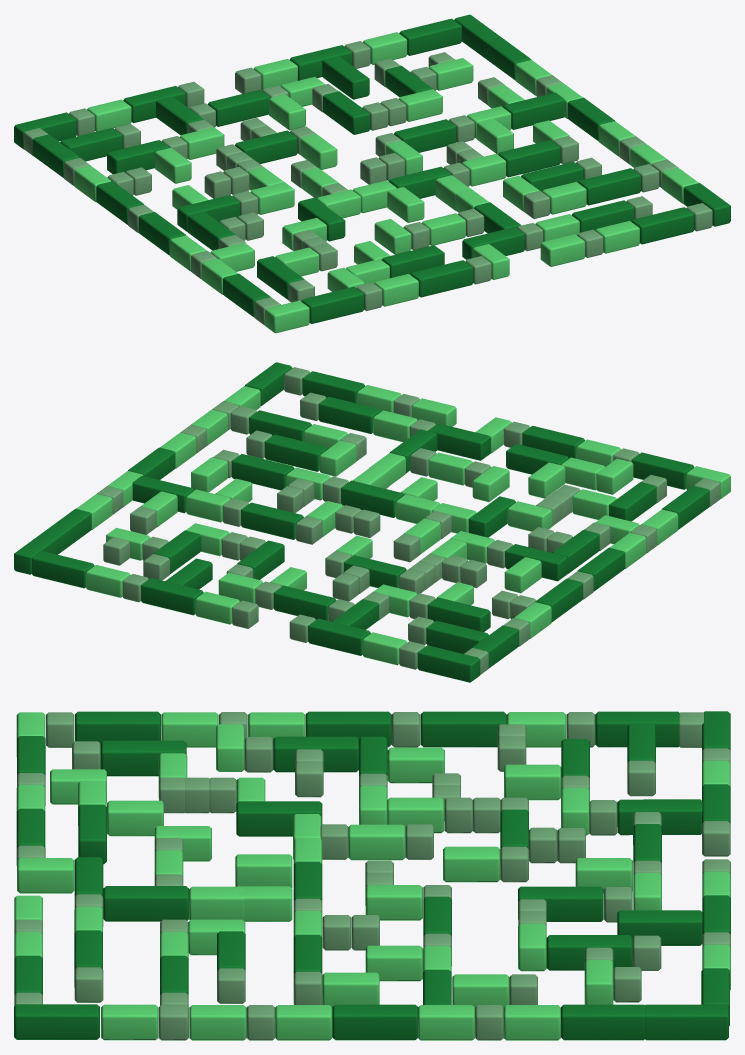
File: SM_Maze_05b.fbx
The picture shows the model from 3 angles, top to bottom: view 1: azimuth 30°, elevation 25°; view 2: azimuth 150°, elevation 25°; view 3: azimuth 270°, elevation 25°; orthographic projection. The views are drawn at different scales.
Visible parts, largest first — view 1: polySurface188, polySurface140, polySurface78; view 2: polySurface188, polySurface140, polySurface78; view 3: polySurface140, polySurface188, polySurface78.
Part boxes in pixels (bbox=[...]): polySurface188: bbox=[14, 14, 730, 323]; polySurface140: bbox=[74, 32, 698, 333]; polySurface78: bbox=[23, 41, 712, 325]; polySurface188: bbox=[14, 362, 709, 682]; polySurface140: bbox=[76, 385, 730, 665]; polySurface78: bbox=[97, 367, 720, 674]; polySurface140: bbox=[14, 712, 730, 1040]; polySurface188: bbox=[14, 711, 730, 1040]; polySurface78: bbox=[14, 712, 730, 1040].
Size of the model in its own units: 2523 by 102 by 2504.
